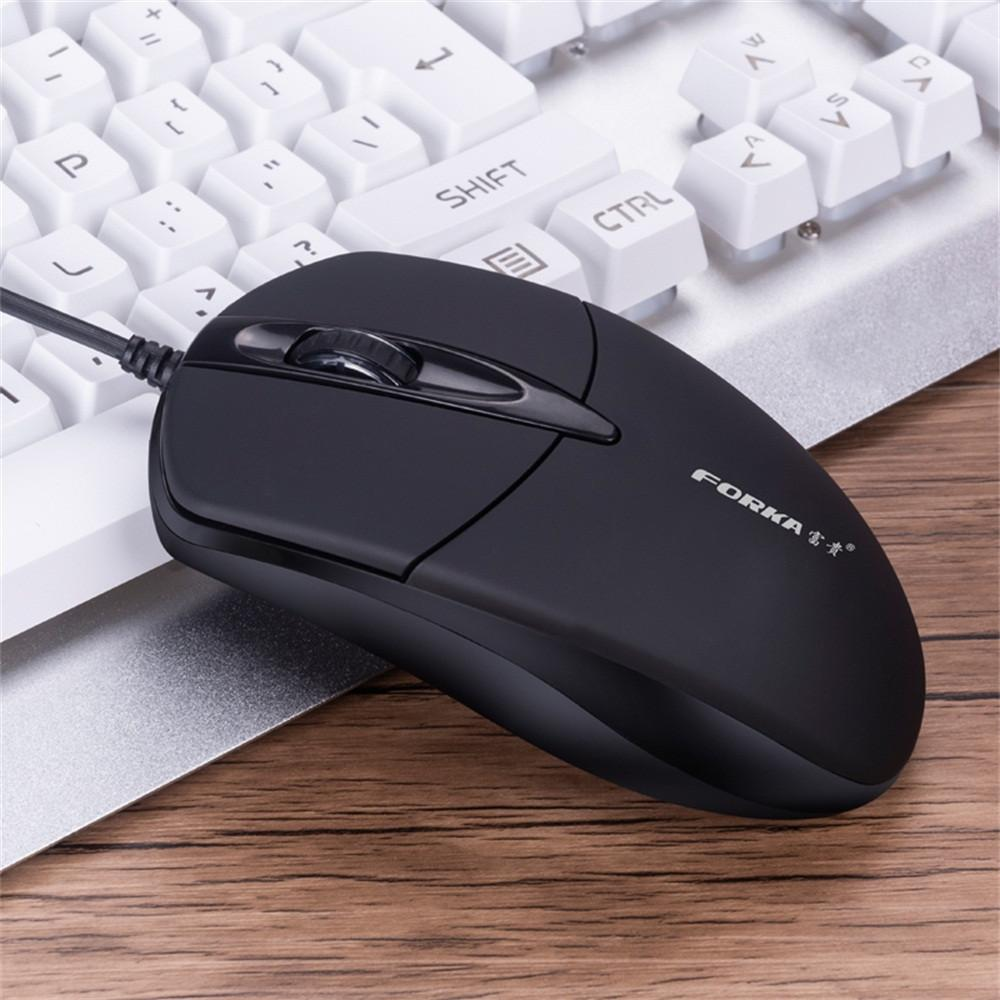computer mouse: (146, 252, 930, 824)
